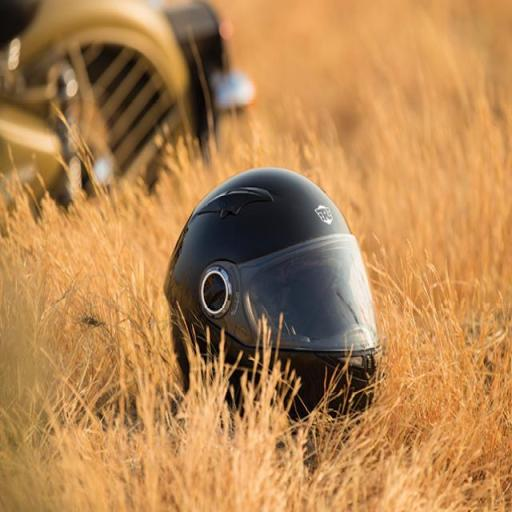Helmet: (165, 168, 378, 415)
